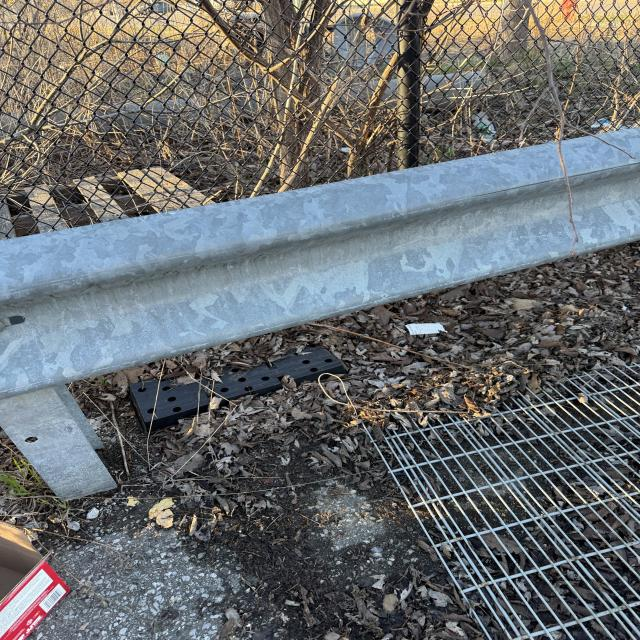Guard rail: (25, 139, 638, 349)
